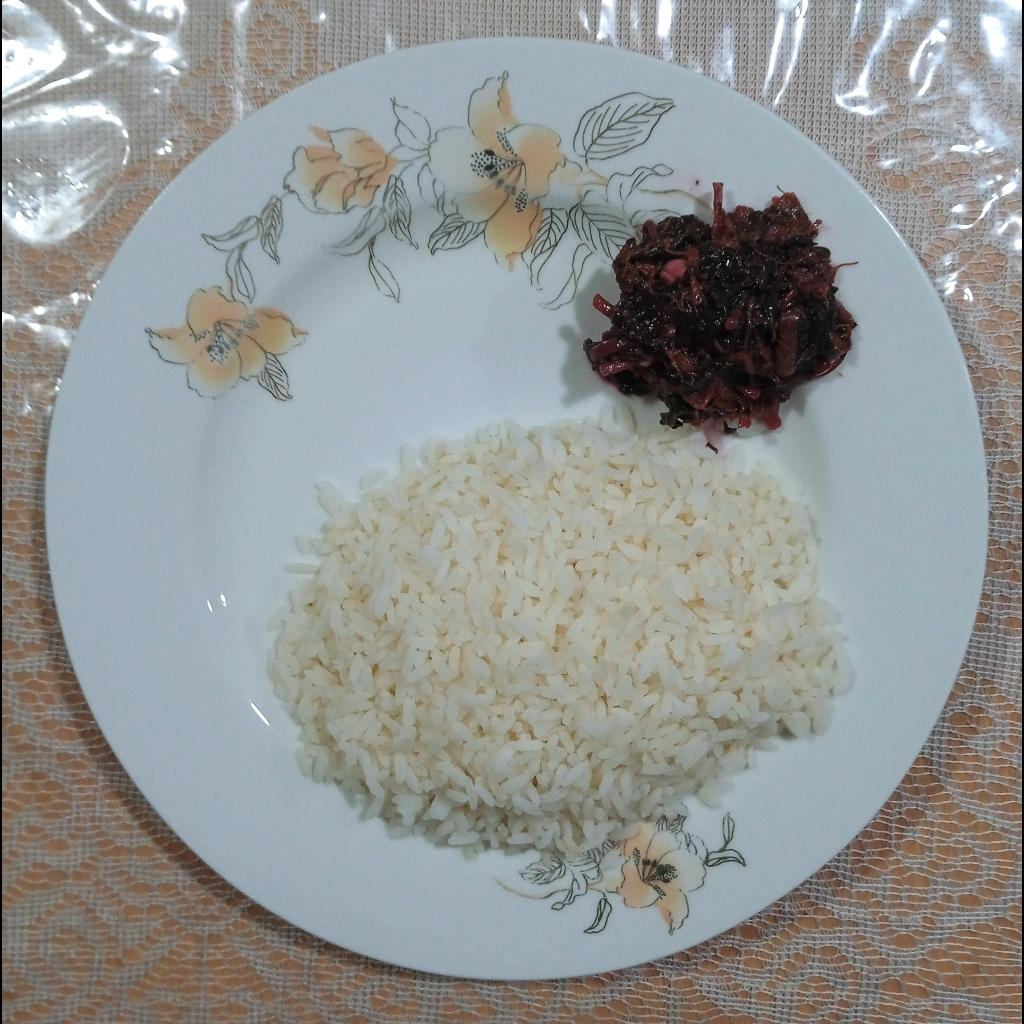lal-shak: (581, 184, 858, 431)
rice: (267, 401, 855, 867)
